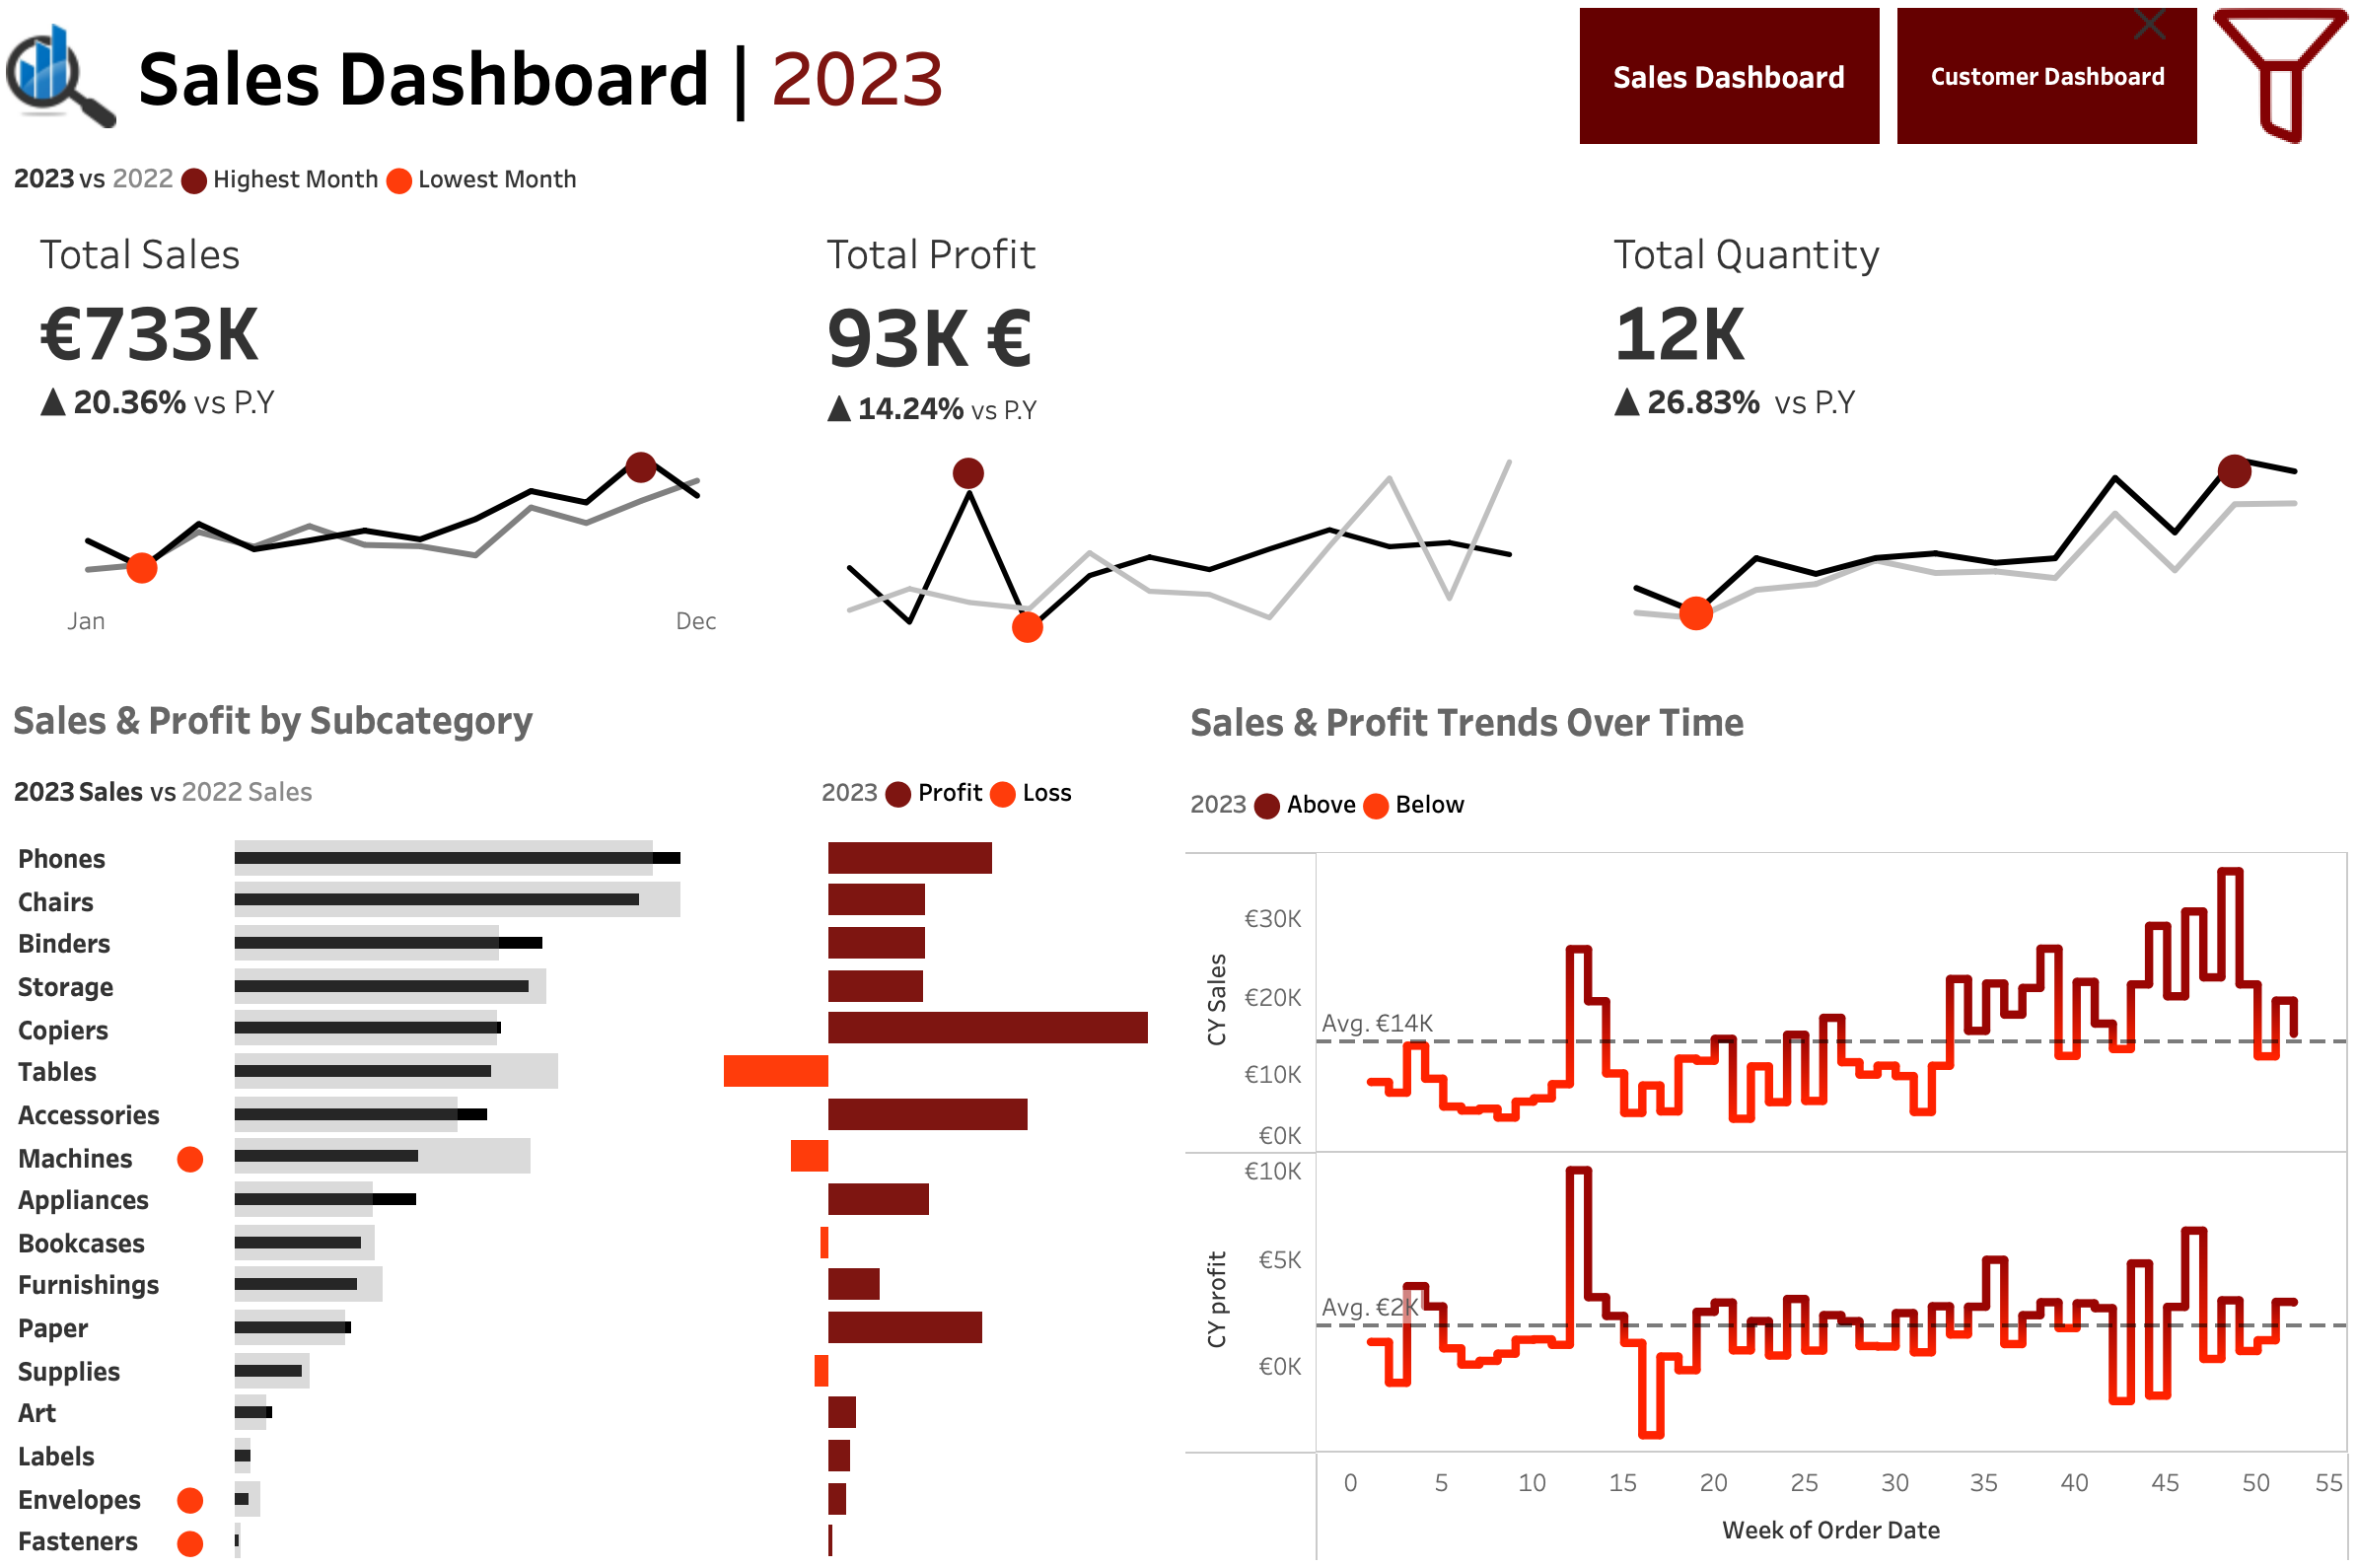

What the dashboard file says about the page in this screenshot:
{"tool":"tableau","page":{"name":"Sales Dashboard","canvas":[1200,800],"ordinal":1},"visuals":[{"type":"image","param":"Image/sales_icon.jpg","box":[2,2,64,77]},{"type":"text","box":[66,2,734,77]},{"type":"dashboard-object","box":[800,2,160.5,77]},{"type":"dashboard-object","box":[960.5,2,160.5,77]},{"type":"dashboard-object","box":[1081,2,24,24]},{"type":"dashboard-object","box":[1121,2,77,77]},{"type":"blank","box":[998,10,190,32]},{"type":"text","box":[998,42,190,34]},{"type":"blank","box":[998,76,190,32]},{"type":"worksheet","title":"Legend KPI","mark":"Automatic","box":[2,79,1196,26]},{"type":"worksheet","title":"KPI Sales","mark":"Line","rows":["Calculation_2195573529632774"],"cols":["Order Date"],"box":[2,105,399,243]},{"type":"worksheet","title":"KPI Profit","mark":"Line","rows":["Calculation_2195573633658898"],"cols":["Order Date"],"box":[401,105,399,243]},{"type":"worksheet","title":"KPI Quantity","mark":"Automatic","rows":["Calculation_2195573860532257"],"cols":["Order Date"],"box":[800,105,398,243]},{"type":"parameter","param":"[Parameters].[Parameter 2195573521190916]","box":[998,108,190,52]},{"type":"text","box":[998,160,190,30]},{"type":"filter","title":"KPI Sales","param":"[federated.13voaje0rh386u1771llm10oqg3v].[none:Category:nk]","box":[998,190,190,52]},{"type":"filter","title":"KPI Sales","param":"[federated.13voaje0rh386u1771llm10oqg3v].[none:Sub-Category:nk]","box":[998,242,190,52]},{"type":"text","box":[998,294,190,29]},{"type":"filter","title":"KPI Sales","param":"[federated.13voaje0rh386u1771llm10oqg3v].[none:Region:nk]","box":[998,323,190,52]},{"type":"text","box":[2,348,598,36]},{"type":"text","box":[600,348,299,38.6]},{"type":"filter","title":"KPI Sales","param":"[federated.13voaje0rh386u1771llm10oqg3v].[none:State:nk]","box":[998,375,190,52]},{"type":"worksheet","title":"Legend subcategory","mark":"Automatic","box":[2,384,411,38]},{"type":"text","box":[413,384,187,38]},{"type":"text","box":[600,386.6,598,43.2]},{"type":"worksheet","title":"subcategory comparision","mark":"Bar","rows":["Sub-Category","Calculation_2195573870075941"],"cols":["Calculation_2195573519314944","CY Sales (copy)_2195573520556034","Calculation_2195573628104717"],"box":[2,422,598,375.9]},{"type":"filter","title":"KPI Sales","param":"[federated.13voaje0rh386u1771llm10oqg3v].[none:City:nk]","box":[998,427,190,52]},{"type":"worksheet","title":"weekly trends","mark":"Automatic","rows":["Calculation_2195573519314944","Calculation_2195573628104717"],"cols":["Order Date"],"box":[600,429.8,598,368.2]}]}

Visuals, with their boxes in screenshot pixels (x1, y1, x2, y2), scaled from the page's 1200x800 canvas onto the 2357x1568 screenshot:
image: pyautogui.locateOnScreen(4, 4, 129, 155)
text: pyautogui.locateOnScreen(129, 4, 1571, 155)
dashboard-object: pyautogui.locateOnScreen(1571, 4, 1887, 155)
dashboard-object: pyautogui.locateOnScreen(1887, 4, 2202, 155)
dashboard-object: pyautogui.locateOnScreen(2123, 4, 2171, 51)
dashboard-object: pyautogui.locateOnScreen(2202, 4, 2353, 155)
blank: pyautogui.locateOnScreen(1961, 20, 2333, 82)
text: pyautogui.locateOnScreen(1961, 82, 2333, 149)
blank: pyautogui.locateOnScreen(1961, 149, 2333, 212)
"Legend KPI" worksheet: pyautogui.locateOnScreen(4, 155, 2353, 206)
"KPI Sales" worksheet (Line marks): pyautogui.locateOnScreen(4, 206, 788, 682)
"KPI Profit" worksheet (Line marks): pyautogui.locateOnScreen(788, 206, 1571, 682)
"KPI Quantity" worksheet: pyautogui.locateOnScreen(1571, 206, 2353, 682)
parameter: pyautogui.locateOnScreen(1961, 212, 2333, 314)
text: pyautogui.locateOnScreen(1961, 314, 2333, 373)
"KPI Sales" filter: pyautogui.locateOnScreen(1961, 373, 2333, 474)
"KPI Sales" filter: pyautogui.locateOnScreen(1961, 474, 2333, 576)
text: pyautogui.locateOnScreen(1961, 576, 2333, 633)
"KPI Sales" filter: pyautogui.locateOnScreen(1961, 633, 2333, 735)
text: pyautogui.locateOnScreen(4, 682, 1178, 752)
text: pyautogui.locateOnScreen(1178, 682, 1766, 757)
"KPI Sales" filter: pyautogui.locateOnScreen(1961, 735, 2333, 837)
"Legend subcategory" worksheet: pyautogui.locateOnScreen(4, 752, 812, 827)
text: pyautogui.locateOnScreen(812, 752, 1178, 827)
text: pyautogui.locateOnScreen(1178, 757, 2353, 842)
"subcategory comparision" worksheet (Bar marks): pyautogui.locateOnScreen(4, 827, 1178, 1564)
"KPI Sales" filter: pyautogui.locateOnScreen(1961, 837, 2333, 939)
"weekly trends" worksheet: pyautogui.locateOnScreen(1178, 842, 2353, 1564)
